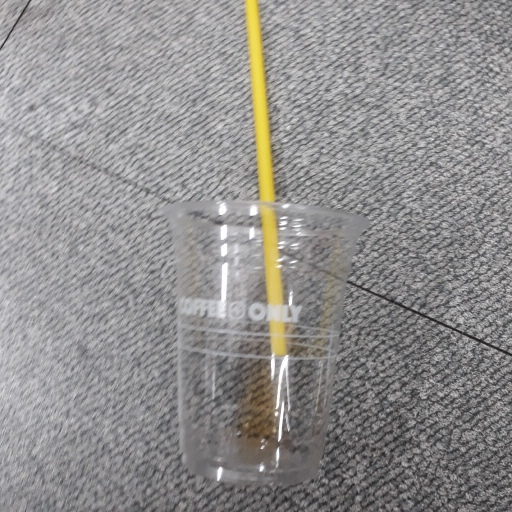Plastic_2: (166, 4, 365, 483)
